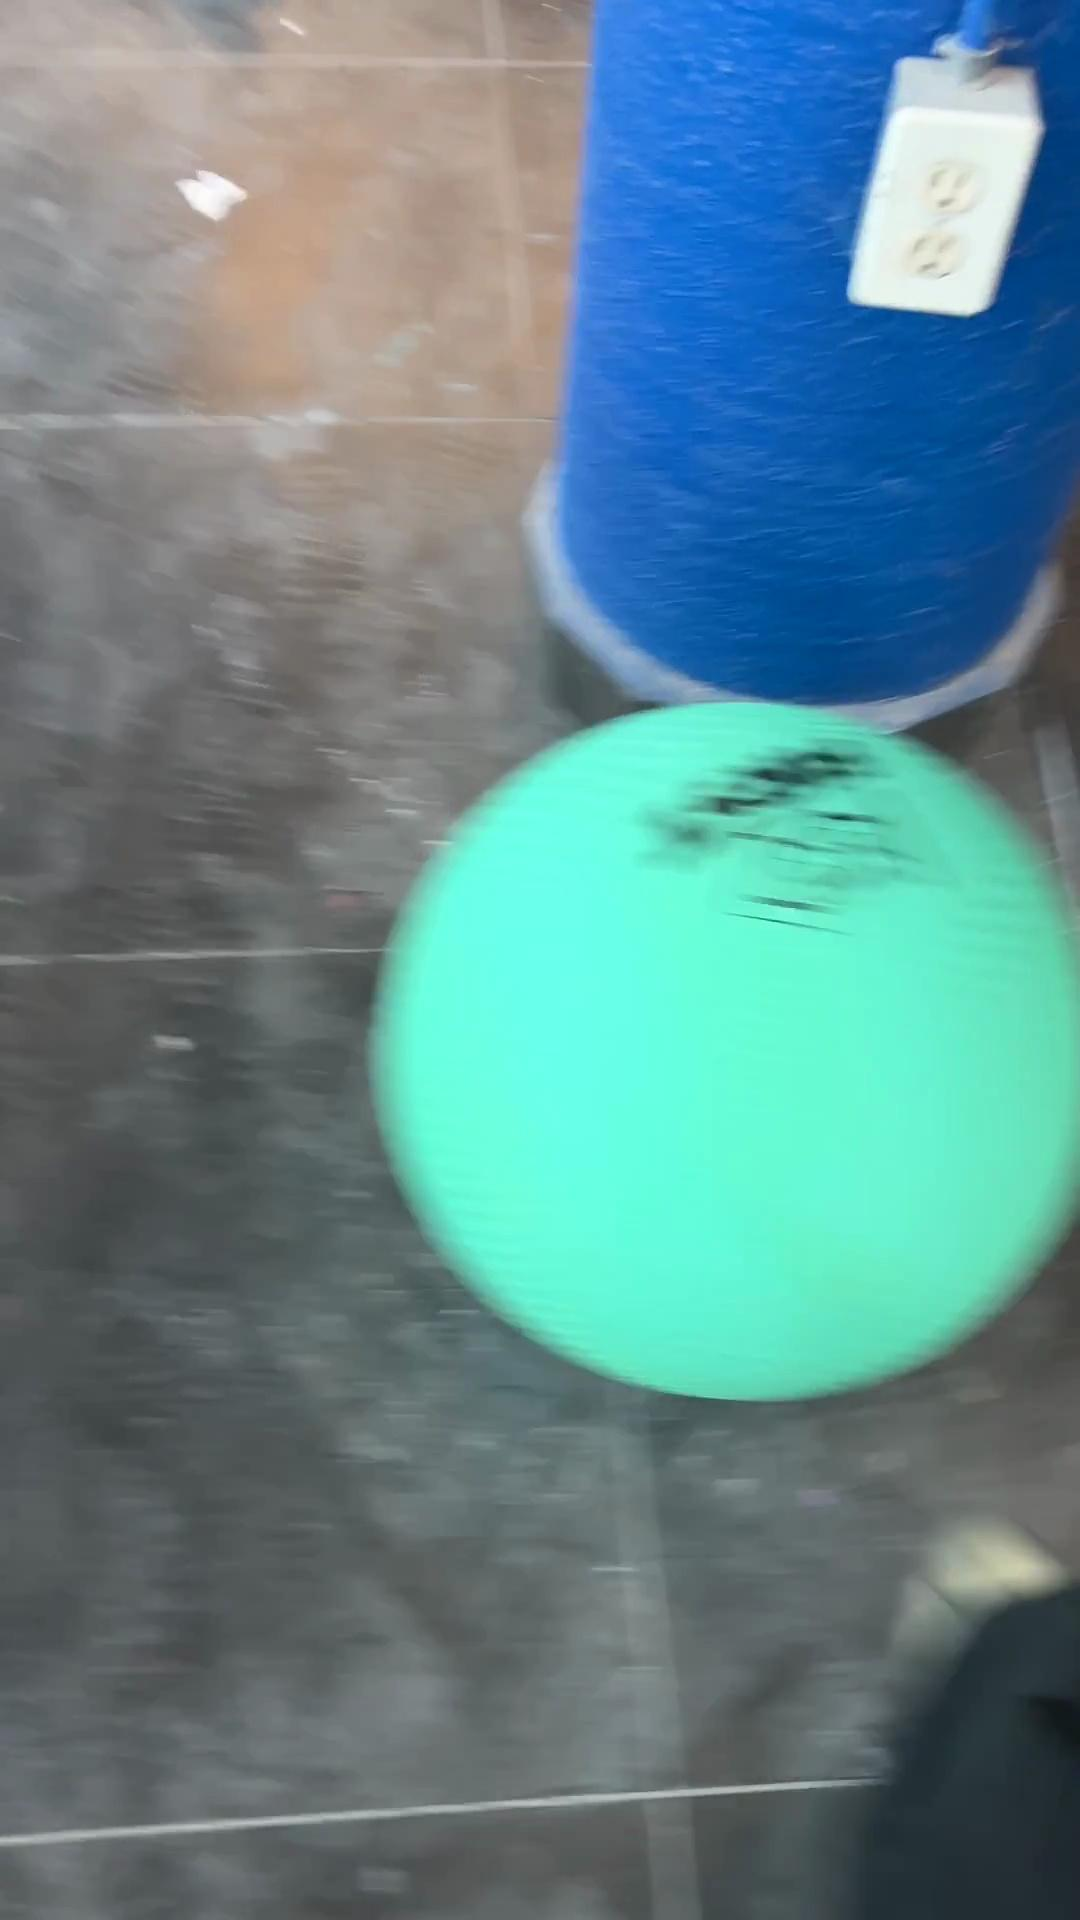ALGAE: (365, 695, 1076, 1406)
